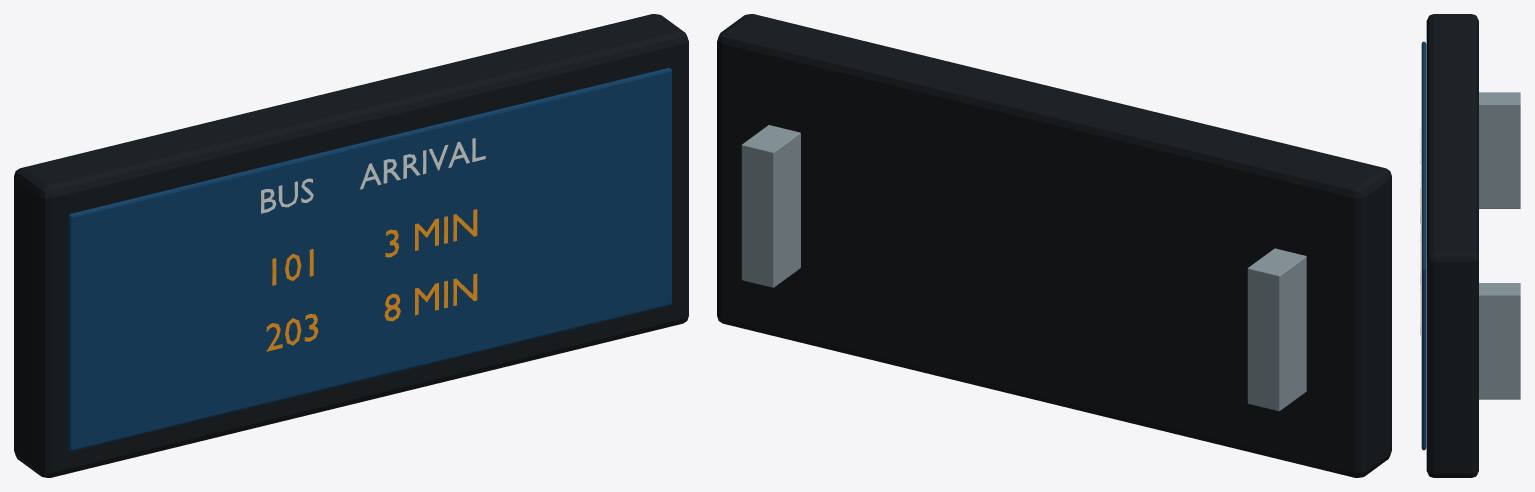
The picture shows the model from 3 angles, left to right: view 1: azimuth 30°, elevation 25°; view 2: azimuth 150°, elevation 25°; view 3: azimuth 270°, elevation 25°; orthographic projection. The views are drawn at different scales.
Visible parts, largest first — view 1: DISPLAY_Glass, DISPLAY_Housing, EDITABLE_Heading, EDITABLE_Row, EDITABLE_Row.001; view 2: DISPLAY_Housing, MOUNT_Bracket, MOUNT_Bracket.001; view 3: DISPLAY_Housing, MOUNT_Bracket, MOUNT_Bracket.001, DISPLAY_Glass.
Part boxes in pixels (bbox=[...]): DISPLAY_Glass: bbox=[68, 68, 671, 451]; DISPLAY_Housing: bbox=[14, 14, 688, 477]; EDITABLE_Heading: bbox=[261, 138, 485, 213]; EDITABLE_Row: bbox=[266, 273, 477, 351]; EDITABLE_Row.001: bbox=[272, 209, 477, 285]; DISPLAY_Housing: bbox=[717, 14, 1391, 477]; MOUNT_Bracket: bbox=[1247, 248, 1306, 411]; MOUNT_Bracket.001: bbox=[741, 125, 800, 287]; DISPLAY_Housing: bbox=[1426, 14, 1478, 477]; MOUNT_Bracket: bbox=[1479, 92, 1520, 208]; MOUNT_Bracket.001: bbox=[1479, 283, 1520, 399]; DISPLAY_Glass: bbox=[1421, 41, 1426, 450].
Size of the model in its own units: 2 by 0.86 by 0.3478.
